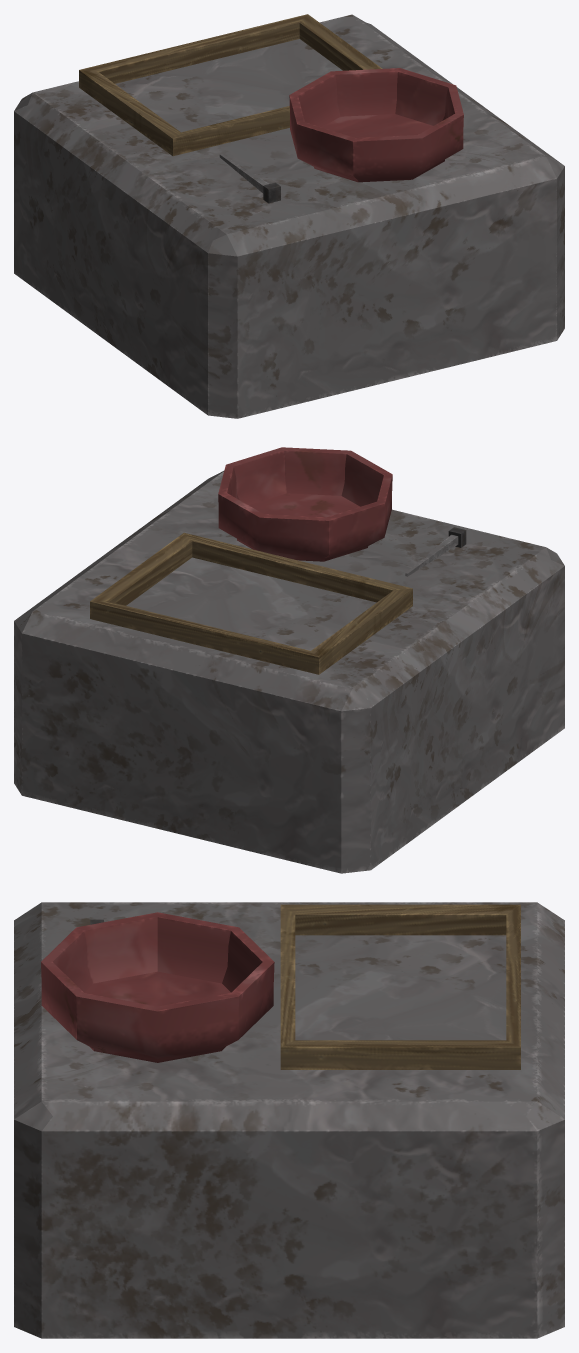
File: papel new.fbx
3 renders of one model, top to bottom at view 1: azimuth 30°, elevation 25°; view 2: azimuth 150°, elevation 25°; view 3: azimuth 270°, elevation 25°, orthographic. The views are drawn at different scales.
Visible parts, largest first — view 1: MesaPapel, RecipientePapel, polySurface4, Batidor; view 2: MesaPapel, RecipientePapel, polySurface4, Batidor; view 3: MesaPapel, RecipientePapel, polySurface4.
Part boxes in pixels (x1,y1,x2,y2): MesaPapel: (14, 14, 564, 418); RecipientePapel: (289, 68, 463, 182); polySurface4: (79, 14, 382, 156); Batidor: (219, 154, 280, 203); MesaPapel: (14, 471, 564, 873); RecipientePapel: (218, 447, 392, 561); polySurface4: (90, 532, 412, 674); Batidor: (405, 527, 466, 576); MesaPapel: (14, 902, 564, 1338); RecipientePapel: (41, 912, 274, 1062); polySurface4: (280, 904, 520, 1069).
Bounding box in the file's own units: 2.22 × 1.34 × 2.33.
